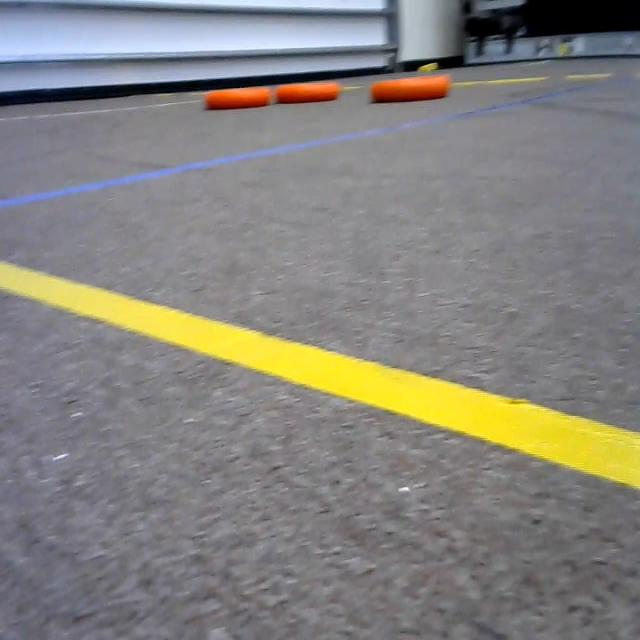note: (368, 76, 452, 104), (203, 81, 270, 113), (276, 77, 342, 106)
